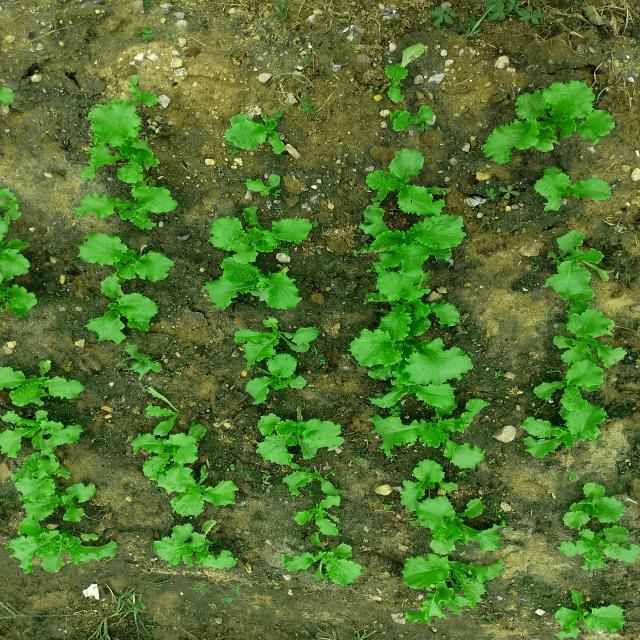Lettuce: (474, 70, 610, 166), (387, 457, 509, 555), (352, 324, 469, 411), (367, 396, 492, 473), (355, 257, 464, 332), (357, 204, 469, 276), (534, 344, 638, 419), (79, 80, 165, 166), (387, 558, 492, 625), (71, 165, 184, 227), (7, 516, 125, 574), (191, 257, 304, 316), (509, 404, 623, 456), (200, 204, 293, 264), (360, 150, 440, 218), (80, 277, 158, 345), (83, 230, 175, 287), (150, 521, 250, 570), (255, 413, 342, 468), (274, 538, 363, 590), (528, 161, 614, 214), (547, 529, 640, 578), (153, 468, 242, 518), (226, 317, 323, 362), (0, 359, 82, 412), (544, 588, 628, 639), (217, 102, 297, 154), (0, 408, 86, 454), (130, 422, 208, 472), (540, 237, 601, 299), (238, 352, 308, 406), (13, 484, 103, 525), (554, 479, 627, 528), (13, 451, 77, 492), (266, 466, 350, 496), (134, 384, 178, 436), (107, 343, 163, 383), (291, 493, 344, 535), (384, 103, 438, 136), (0, 281, 39, 324), (0, 234, 31, 280), (379, 59, 404, 109), (0, 191, 25, 239), (240, 172, 280, 195)
